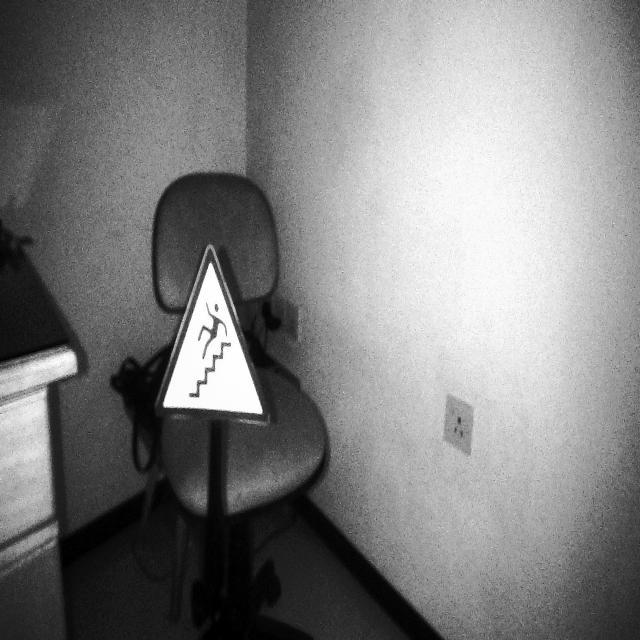Sign: (153, 240, 273, 428)
